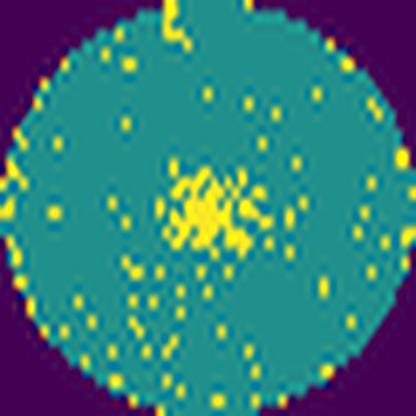Center: (152, 159, 281, 266)
